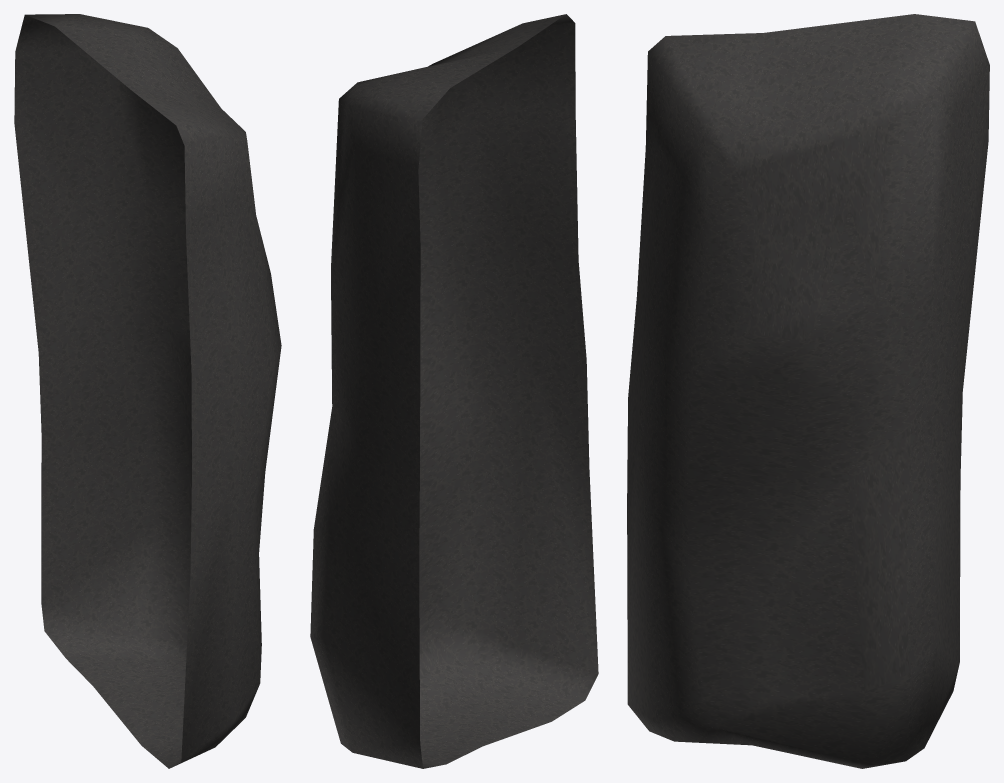
The model's file is PieceOfStone1.fbx.
The picture shows the model from 3 angles, left to right: view 1: azimuth 30°, elevation 25°; view 2: azimuth 150°, elevation 25°; view 3: azimuth 270°, elevation 25°; orthographic projection. The views are drawn at different scales.
Parts seen in each view (by area): view 1: PieceOfStone1; view 2: PieceOfStone1; view 3: PieceOfStone1.
Part boxes in pixels (x1,y1,x2,y2): PieceOfStone1: [14, 14, 281, 768]; PieceOfStone1: [310, 14, 598, 768]; PieceOfStone1: [627, 14, 989, 768].
Bounding box in the file's own units: 120 × 492 × 228.
Materials: 1 (1 with a texture image).
